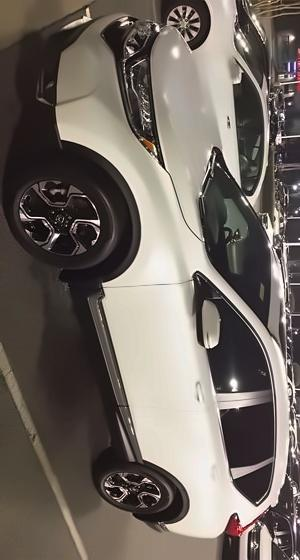Car hood: (144, 22, 226, 248)
Fender - -F-L-: (104, 149, 216, 295)
Fender - -R-L-: (145, 452, 252, 535)
Front bumper: (32, 5, 150, 170)
Headlight - -L-: (121, 53, 164, 173)
Passenger-s door - -F-L-: (80, 276, 287, 411)
Passenger-s door - -R-L-: (86, 395, 295, 487)
Rear bumper: (132, 501, 196, 548)
Side bumper - -L-: (66, 278, 156, 478)
Side mirror - -L-: (182, 275, 231, 356)
